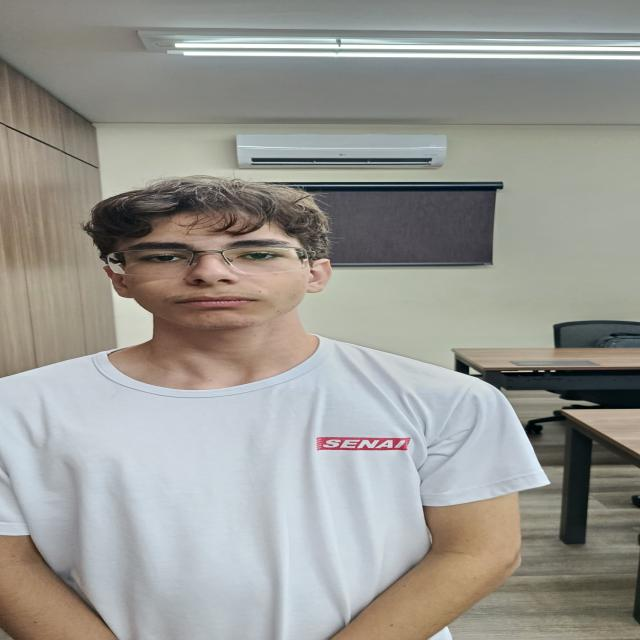sem_oculos: (106, 246, 310, 280)
